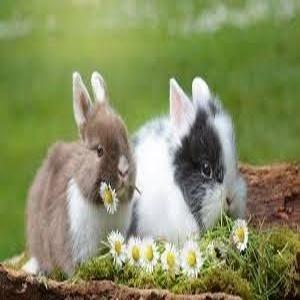rabbit: (26, 72, 246, 273)
